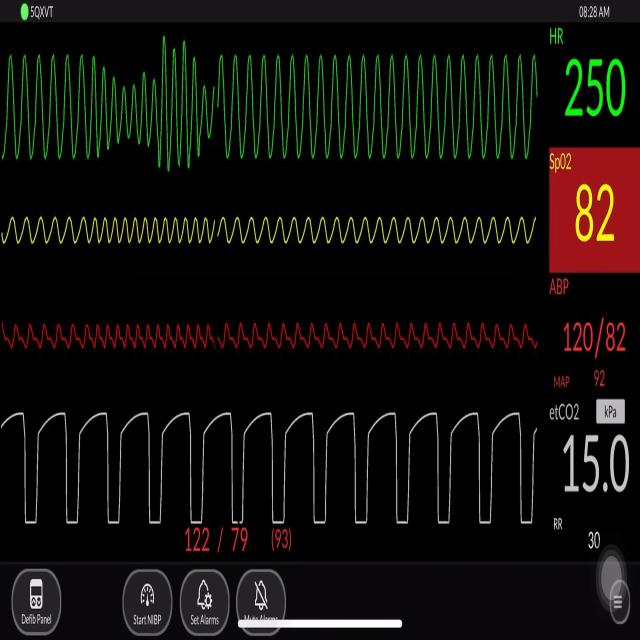danger: (213, 33, 540, 180), (103, 36, 210, 191), (7, 32, 98, 173)
